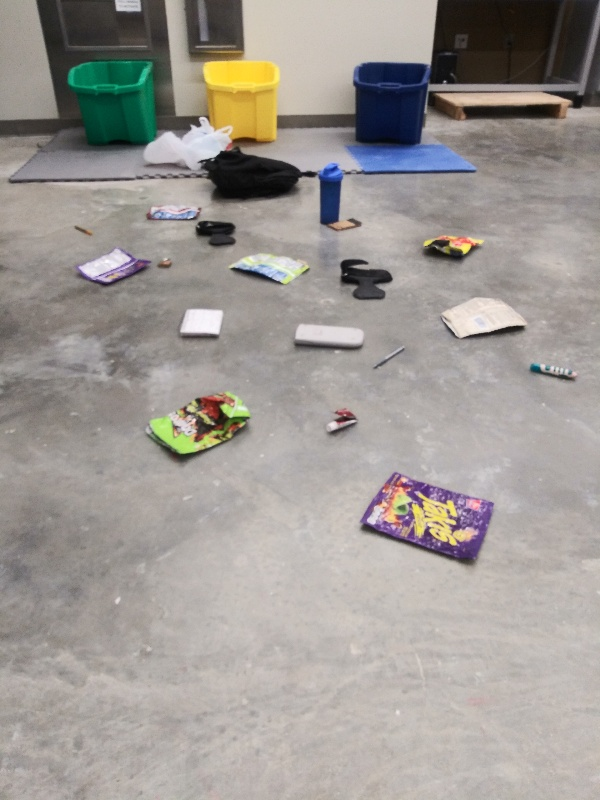bag: (358, 466, 497, 575), (140, 387, 256, 466), (435, 292, 534, 344), (228, 244, 318, 287), (72, 244, 155, 288), (414, 225, 494, 265), (140, 196, 202, 224)
